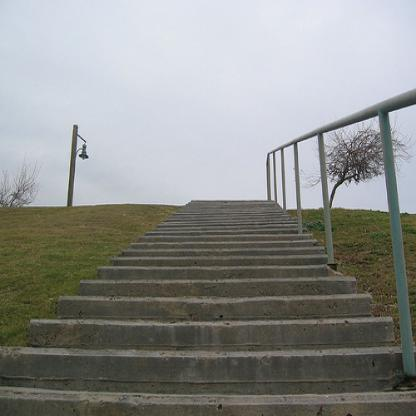stairs: (141, 234, 309, 416)
